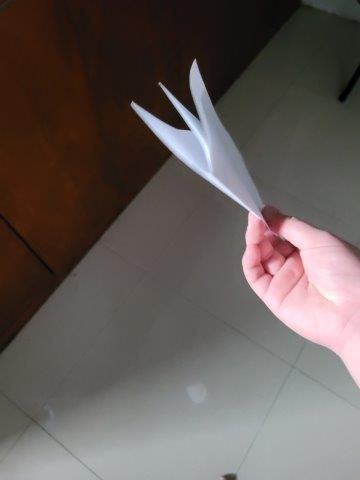kertas: (132, 56, 288, 220)
